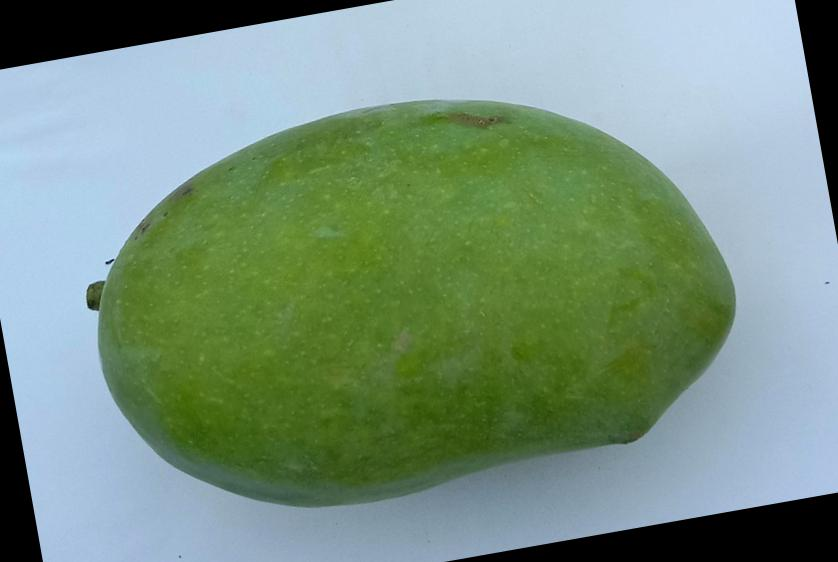Mango Unripe: (6, 0, 795, 562)
